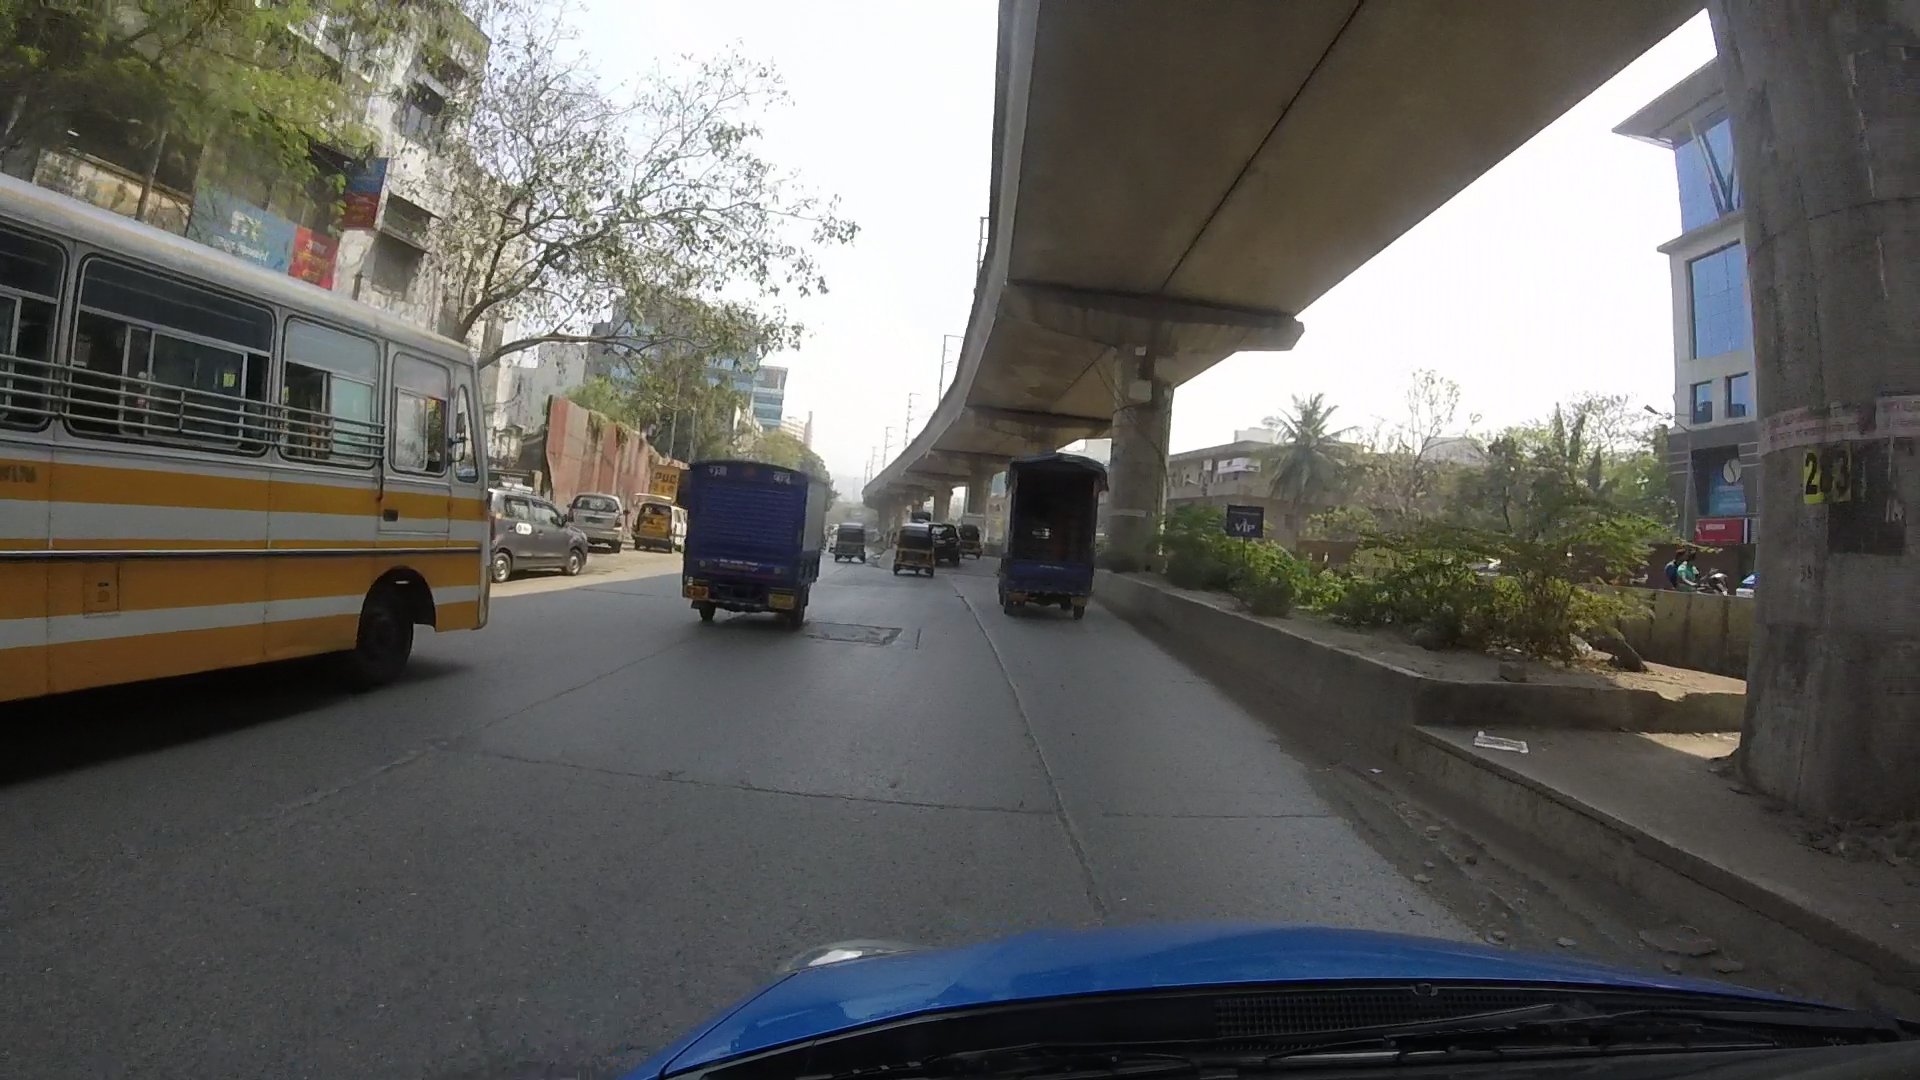bus: (5, 179, 513, 698)
truck: (684, 430, 822, 616), (996, 448, 1116, 616)
